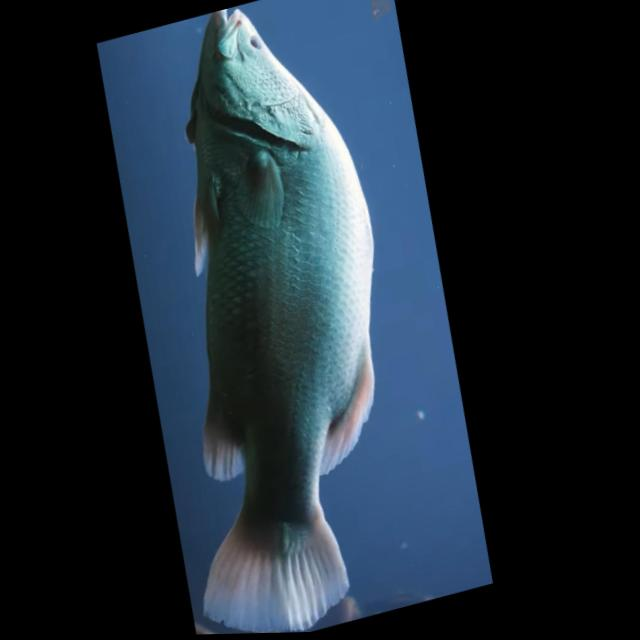Seabass: (56, 0, 482, 638)
